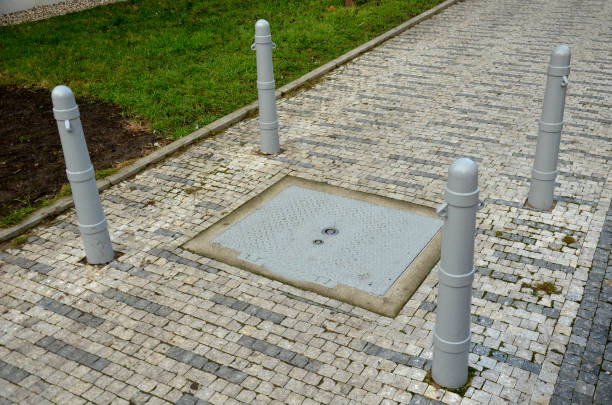bollard: (424, 153, 485, 397), (47, 82, 120, 270), (521, 42, 574, 218), (248, 17, 284, 160)
